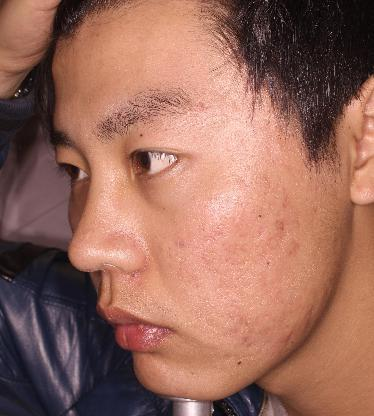Blackheads: (254, 206, 269, 225)
Papules: (275, 324, 302, 347)
acne scar: (271, 211, 289, 239)
